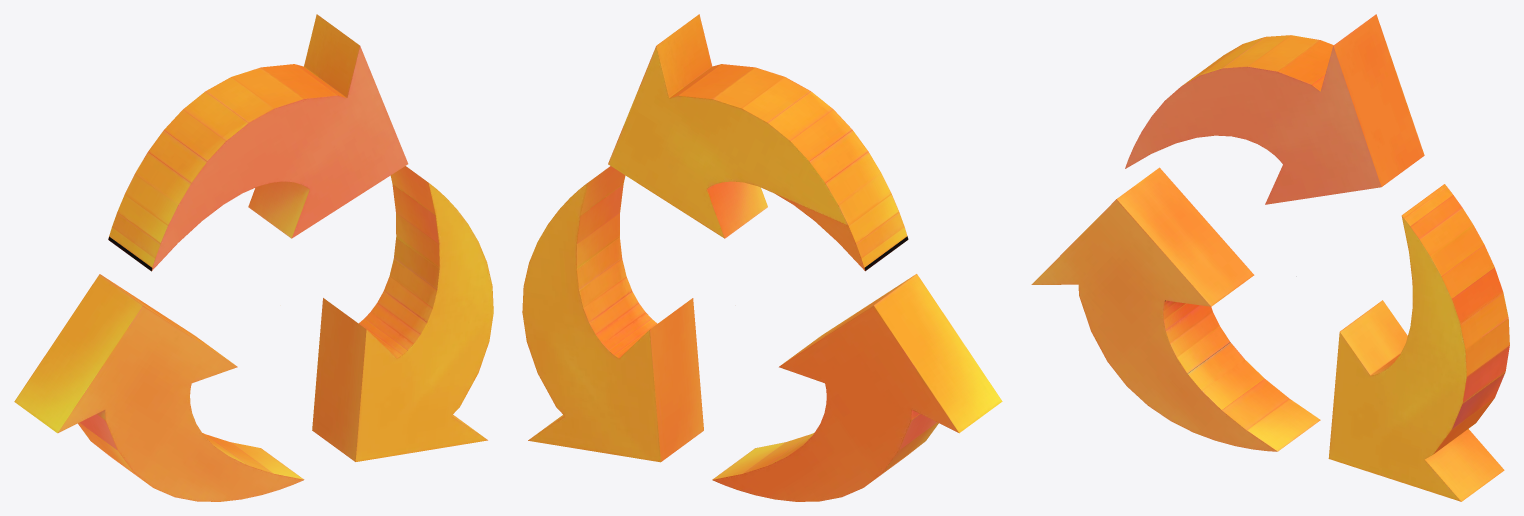
The model's file is INCONOGRAPHY_Source_v5.glb.
The picture shows the model from 3 angles, left to right: view 1: azimuth 30°, elevation 25°; view 2: azimuth 150°, elevation 25°; view 3: azimuth 330°, elevation 25°; orthographic projection.
Visible parts, largest first — view 1: reuseArrows; view 2: reuseArrows; view 3: reuseArrows.
Part boxes in pixels (x1=…): reuseArrows: x1=14, y1=14, x2=493, y2=501; reuseArrows: x1=522, y1=14, x2=1002, y2=501; reuseArrows: x1=1031, y1=14, x2=1509, y2=501.
Bounding box in the file's own units: 0.9514 × 0.8874 × 0.1649.
Materials: 3 (2 with a texture image).
